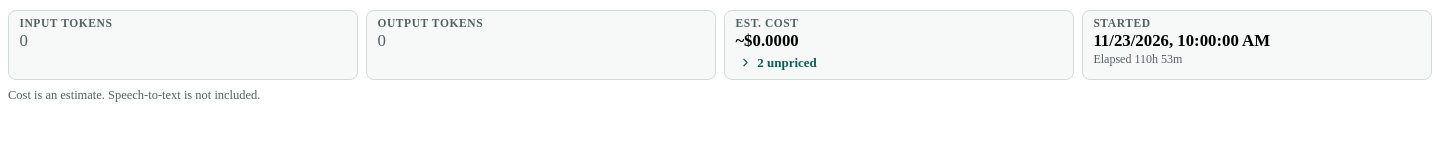
it: unpriced units are explained in a popover behind the cost tile
Expected: the text "estimate is incomplete" is not shown
Click the button "2 unpriced" at [778, 63], box [735,52,821,73]
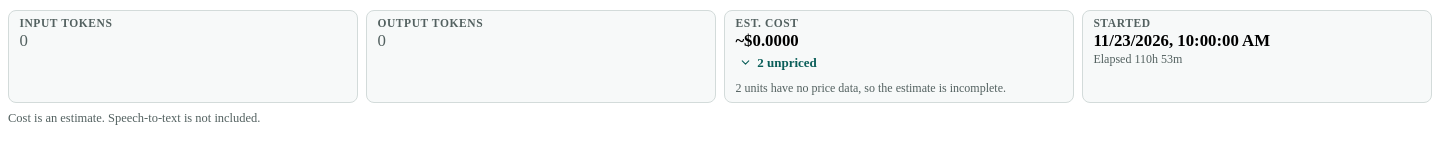
Expected: the text "2 units have no price data, so the estimate is incomplete." is shown, [735,81,1006,95]
